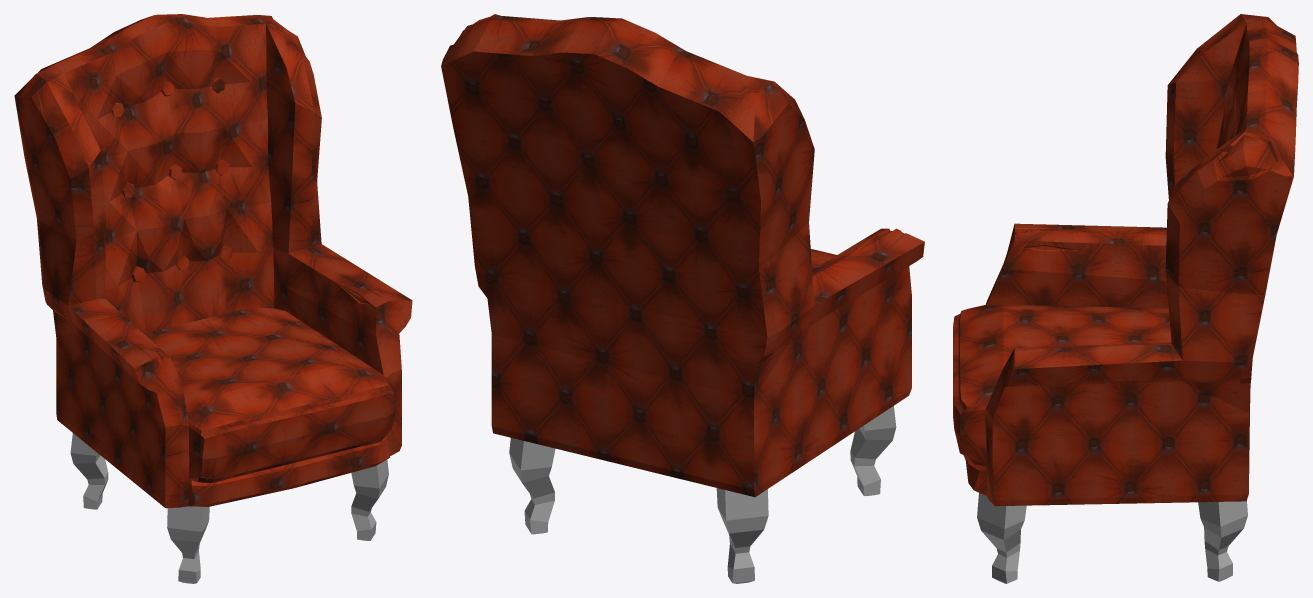
Rendered from Prop_ArmChair_01.fbx.
3 renders of one model, left to right at view 1: azimuth 30°, elevation 25°; view 2: azimuth 150°, elevation 25°; view 3: azimuth 270°, elevation 25°, orthographic. The views are drawn at different scales.
Parts seen in each view (by area): view 1: SM_Prop_ArmChair_01Fixed; view 2: SM_Prop_ArmChair_01Fixed; view 3: SM_Prop_ArmChair_01Fixed.
Part boxes in pixels (bbox=[...]): SM_Prop_ArmChair_01Fixed: bbox=[14, 14, 412, 583]; SM_Prop_ArmChair_01Fixed: bbox=[441, 14, 924, 583]; SM_Prop_ArmChair_01Fixed: bbox=[953, 14, 1298, 583].
Bounding box in the file's own units: 92.78 × 145 × 93.19.
2 materials, 1 textured.
